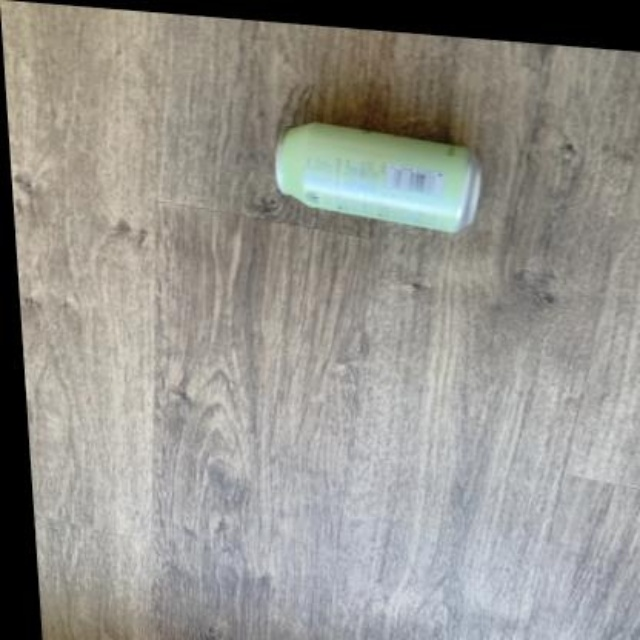trash: (275, 123, 480, 231)
